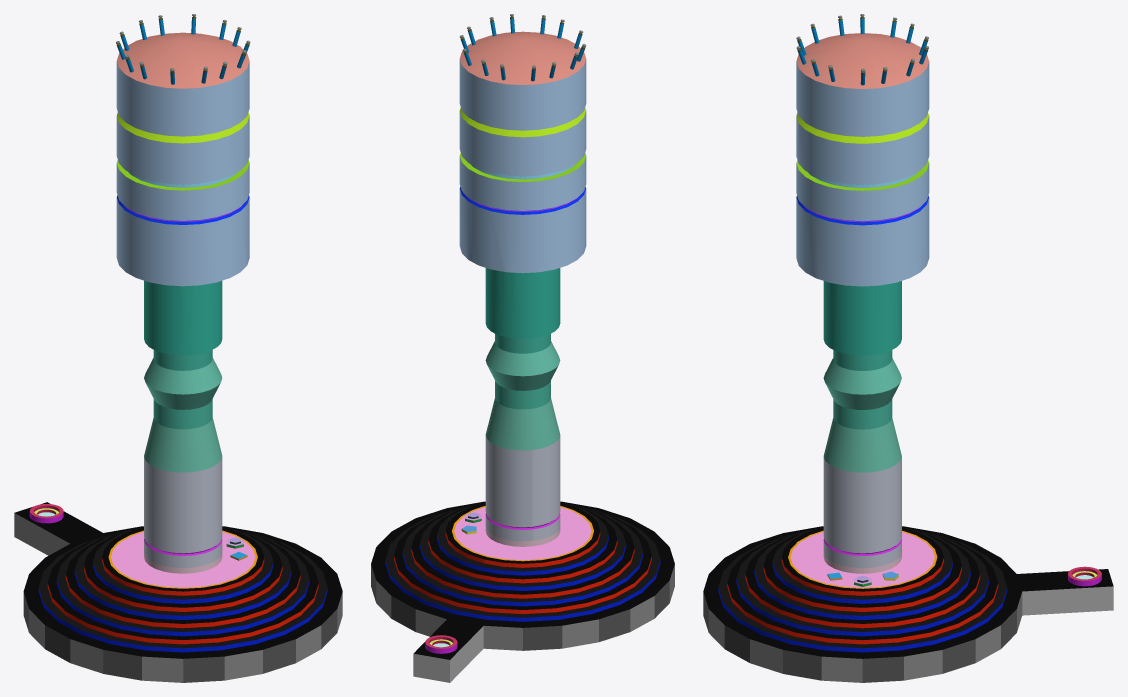
Rendered from Iteration3Color.fbx.
3 views of the same model, side by side, from view 1: azimuth 30°, elevation 25°; view 2: azimuth 150°, elevation 25°; view 3: azimuth 270°, elevation 25° (orthographic). The views are drawn at different scales.
Parts seen in each view (by area): view 1: Model; view 2: Model; view 3: Model.
Part boxes in pixels (x1,y1,x2,y2): Model: (14,14,342,682); Model: (371,14,674,682); Model: (703,14,1113,682).
Size of the model in its own units: 368 by 731 by 473.
